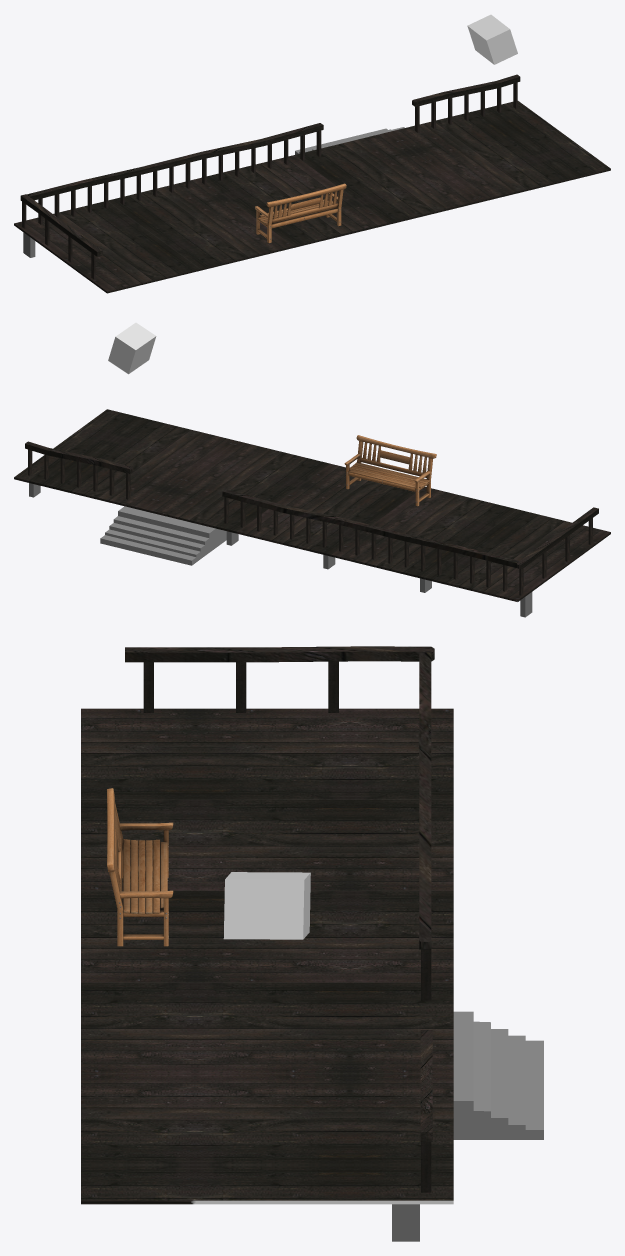
The model's file is Porch_Group.fbx.
3 views of the same model, one above another, from view 1: azimuth 30°, elevation 25°; view 2: azimuth 150°, elevation 25°; view 3: azimuth 270°, elevation 25° (orthographic). The views are drawn at different scales.
Parts seen in each view (by area): view 1: Porch, Railing2, Bench, Cube, Railing1, Railing3, Stair_2; view 2: Porch, Stair_2, Bench, Railing2, Cube, Railing1, Railing3; view 3: Porch, Stair_2, Bench, Cube, Railing3, Railing2, Railing1, Post.
Part boxes in pixels (x1,y1,x2,y2): Porch: (14, 101, 610, 293); Railing2: (26, 123, 323, 200); Bench: (255, 183, 346, 242); Cube: (467, 14, 517, 64); Railing1: (412, 74, 520, 106); Railing3: (20, 194, 102, 256); Stair_2: (295, 127, 404, 154); Porch: (14, 409, 610, 601); Stair_2: (100, 506, 226, 565); Bench: (344, 435, 436, 506); Railing2: (222, 489, 519, 568); Cube: (108, 322, 156, 374); Railing1: (25, 441, 133, 473); Railing3: (517, 507, 598, 568); Porch: (81, 708, 453, 1204); Stair_2: (453, 1011, 543, 1139); Bench: (107, 788, 173, 946); Cube: (223, 872, 310, 939); Railing3: (125, 646, 434, 662); Railing2: (419, 652, 431, 949); Railing1: (420, 1030, 432, 1141); Post: (392, 1204, 419, 1241).
Bounding box in the file's own units: 274 × 79.28 × 109.
